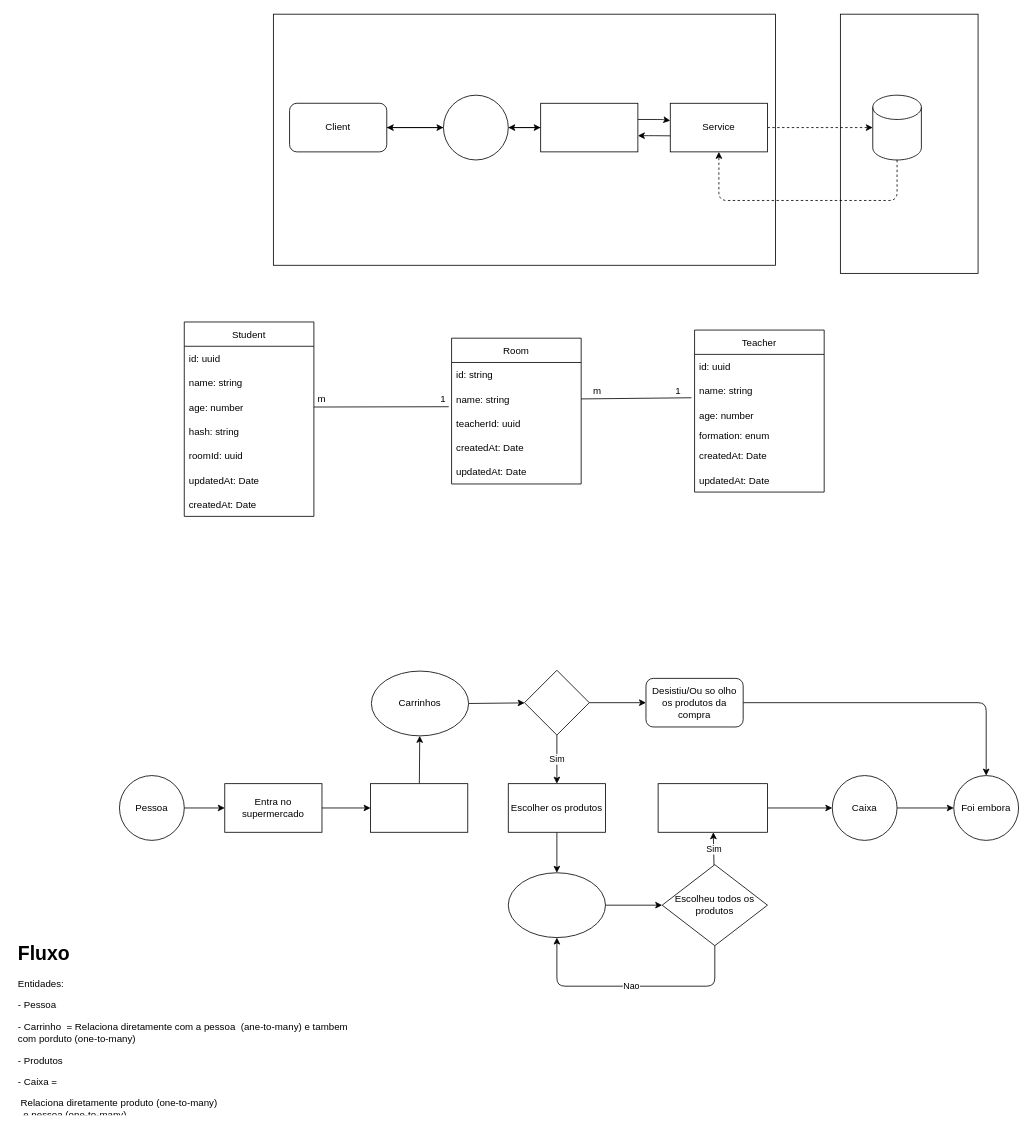
Some shapes in this 1033 by 1133 pixel diagram are drawn without their labels. Here are the shapes that lost their labels. From the top down, the centre of each, then its label:
At point (475, 127): "API (ROUTER)".
At point (589, 127): "Controller".
At point (896, 127): "DB".
At point (556, 702): "Pegou o carrinho?".
At point (419, 807): "Pegar o carrinho".
At point (712, 807): "Vai para o caixa realizar o pagamento".
At point (556, 905): "Produtos".
